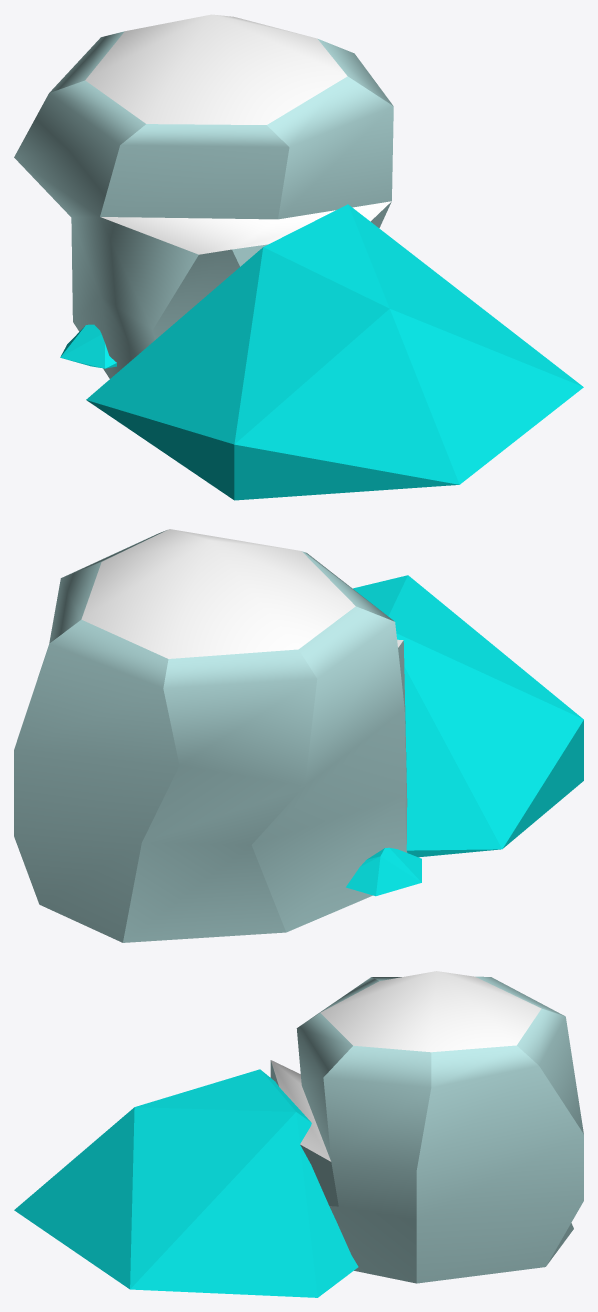
Rendered from IceRockOG.fbx.
The picture shows the model from 3 angles, top to bottom: view 1: azimuth 30°, elevation 25°; view 2: azimuth 150°, elevation 25°; view 3: azimuth 270°, elevation 25°; orthographic projection. The views are drawn at different scales.
Visible parts, largest first — view 1: pPlatonic7, pCylinder3, pPlatonic8; view 2: pCylinder3, pPlatonic7, pPlatonic8; view 3: pCylinder3, pPlatonic7.
Part boxes in pixels (left/top/right/bottom): pPlatonic7: left=86, top=204, right=583, bottom=500; pCylinder3: left=14, top=14, right=393, bottom=378; pPlatonic8: left=60, top=324, right=116, bottom=368; pCylinder3: left=14, top=529, right=407, bottom=942; pPlatonic7: left=353, top=575, right=583, bottom=857; pPlatonic8: left=346, top=847, right=421, bottom=896; pCylinder3: left=270, top=971, right=583, bottom=1283; pPlatonic7: left=14, top=1069, right=358, bottom=1297.
Size of the model in its own units: 4.91 by 4.02 by 7.46.
